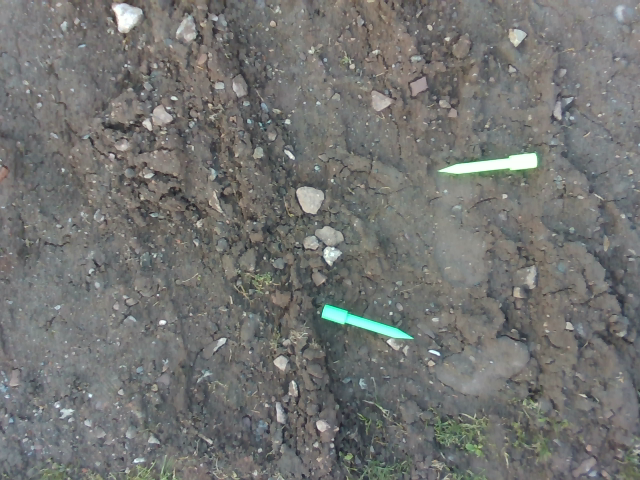Probe: (317, 300, 418, 344), (434, 149, 541, 181)
